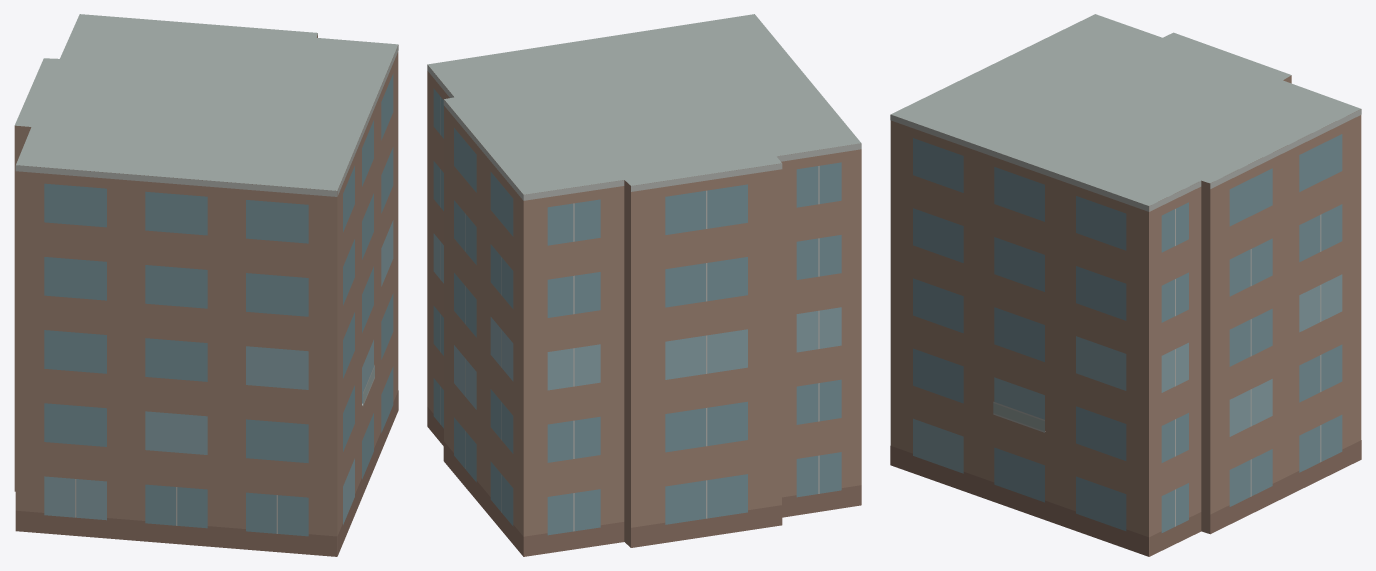
File: survey-upis-32708684.glb
3 renders of one model, left to right at view 1: azimuth 30°, elevation 25°; view 2: azimuth 150°, elevation 25°; view 3: azimuth 270°, elevation 25°, orthographic. The views are drawn at different scales.
Parts seen in each view (by area): view 1: survey-upis-32708684.tmp; view 2: survey-upis-32708684.tmp; view 3: survey-upis-32708684.tmp.
Boxes of the visible parts, bbox=[...] form: survey-upis-32708684.tmp: bbox=[14, 14, 398, 556]; survey-upis-32708684.tmp: bbox=[427, 14, 861, 556]; survey-upis-32708684.tmp: bbox=[890, 14, 1361, 556].
Size of the model in its own units: 17.16 by 14.6 by 17.77.
